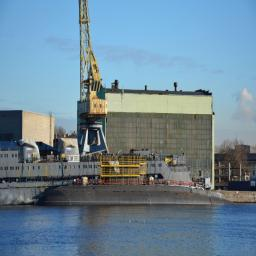submarine: (40, 183, 238, 205)
